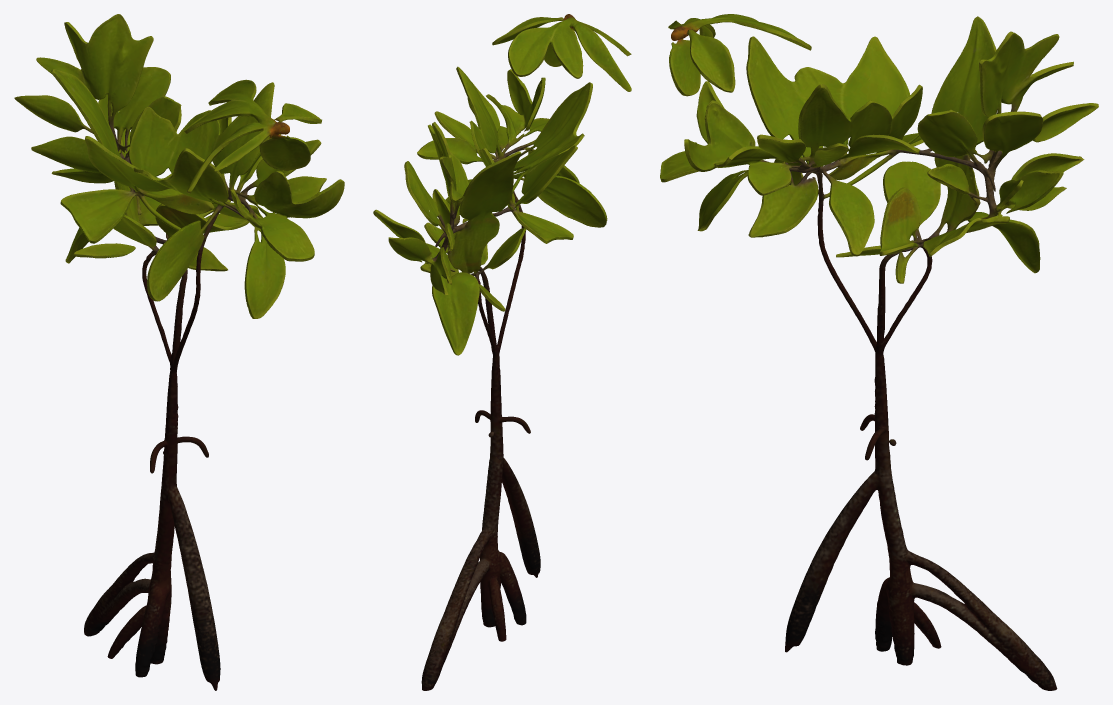
The model's file is asset.glb.
3 views of the same model, side by side, from view 1: azimuth 30°, elevation 25°; view 2: azimuth 150°, elevation 25°; view 3: azimuth 270°, elevation 25° (orthographic). The views are drawn at different scales.
Parts seen in each view (by area): view 1: tripo_node_e78ca074-830c-4fe5-b72d-e1ad6cf9642c; view 2: tripo_node_e78ca074-830c-4fe5-b72d-e1ad6cf9642c; view 3: tripo_node_e78ca074-830c-4fe5-b72d-e1ad6cf9642c.
Part boxes in pixels (x1,y1,x2,y2): tripo_node_e78ca074-830c-4fe5-b72d-e1ad6cf9642c: (14,14,344,690); tripo_node_e78ca074-830c-4fe5-b72d-e1ad6cf9642c: (373,14,631,690); tripo_node_e78ca074-830c-4fe5-b72d-e1ad6cf9642c: (660,14,1098,690).
Bounding box in the file's own units: 0.294 × 0.9981 × 0.5871.
Materials: 1 (1 with a texture image).
